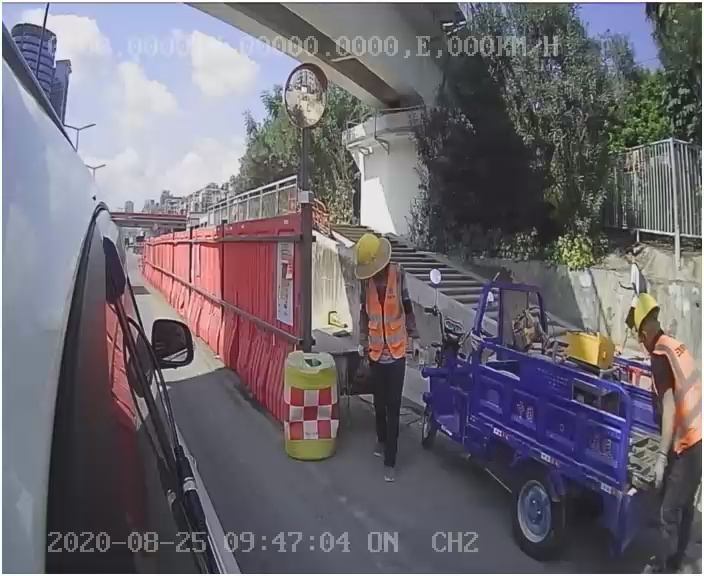person: (338, 234, 427, 479)
